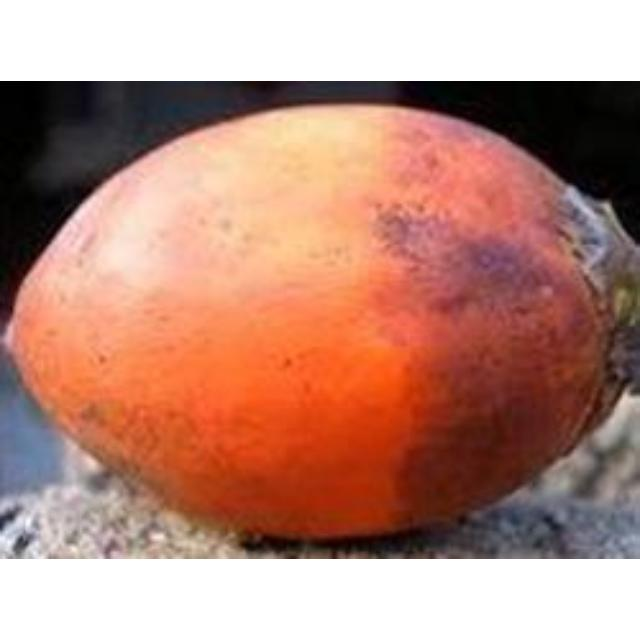good: (0, 104, 637, 549)
